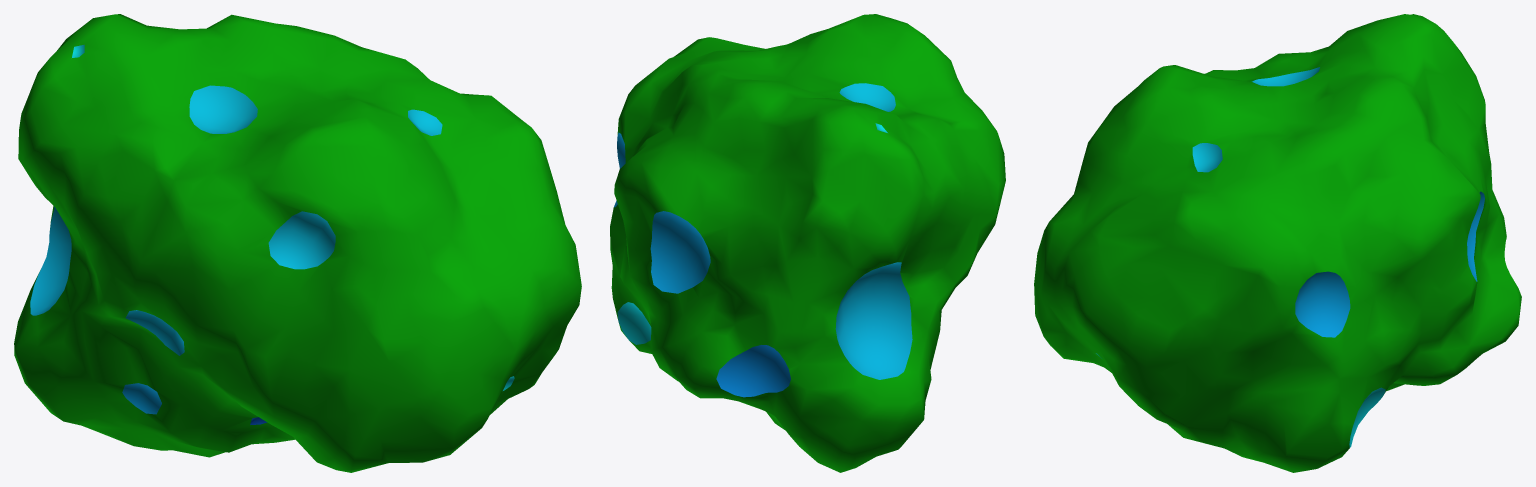
File: asteroid.gltf
3 renders of one model, left to right at view 1: azimuth 30°, elevation 25°; view 2: azimuth 150°, elevation 25°; view 3: azimuth 270°, elevation 25°, orthographic. The views are drawn at different scales.
Visible parts, largest first — view 1: asteroid1; view 2: asteroid1; view 3: asteroid1.
Part boxes in pixels (<box>): asteroid1: <box>14,14,581,472</box>; asteroid1: <box>610,14,1005,472</box>; asteroid1: <box>1034,14,1521,472</box>.
Bounding box in the file's own units: 1.22 × 1.16 × 1.4.
